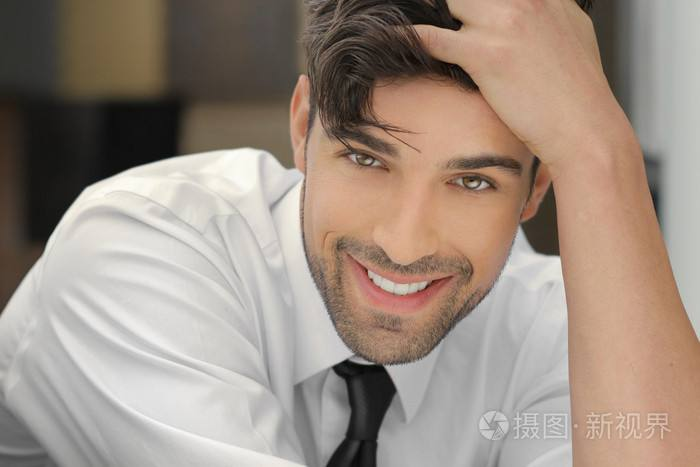person: (253, 27, 660, 467)
